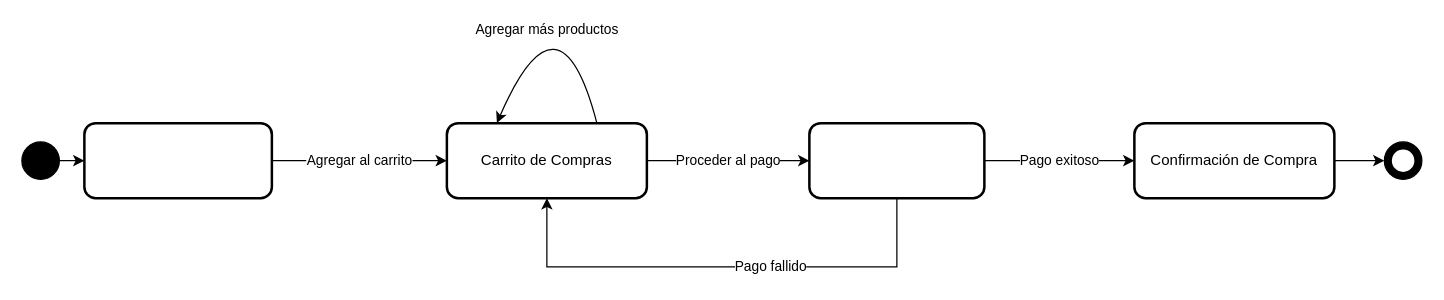
This 1444x300 diagram has some shape labels left out. Each missing label, with the centre of its shape:
Catálogo de Productos: (177,160)
Realizar Pago: (896,160)
